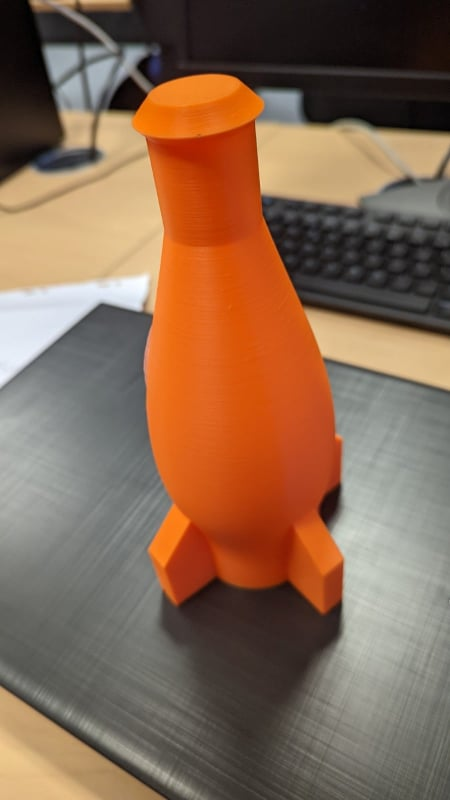bottle: (128, 67, 355, 626)
